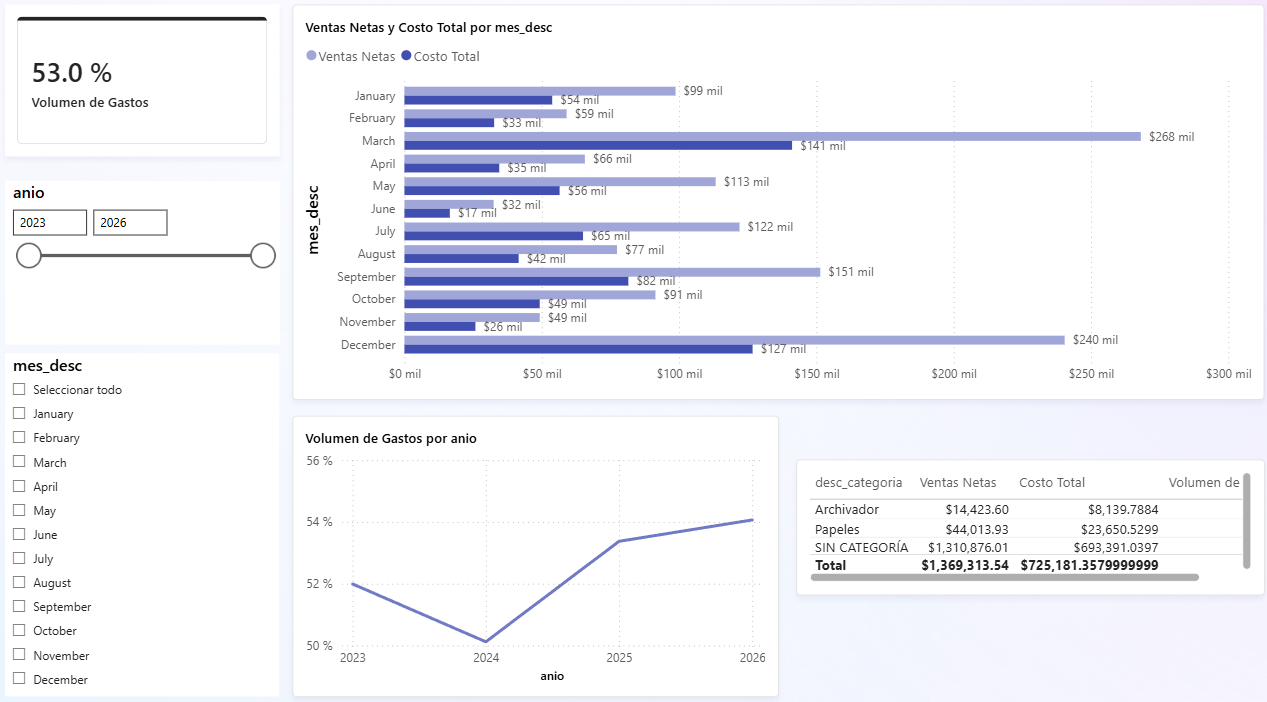

What the dashboard file says about the page in this screenshot:
{"tool":"powerbi","page":{"name":"KPI 4 - Volumen de Gastos","canvas":[1280,720],"ordinal":5},"visuals":[{"type":"cardVisual","fields":{"Data":["_Medidas.Volumen de Gastos"]},"box":[10,12.5,273.8,151.2],"z":0},{"type":"lineChart","fields":{"Category":["marts dim_fecha.Calendario.anio","marts dim_fecha.Calendario.trimestre","marts dim_fecha.Calendario.mes_desc","marts dim_fecha.Calendario.fecha"],"Y":["_Medidas.Volumen de Gastos"]},"box":[296.2,421.2,483.8,280],"z":1000},{"type":"tableEx","fields":{"Values":["marts dim_producto.desc_categoria","_Medidas.Ventas Netas","_Medidas.Costo Total","_Medidas.Volumen de Gastos"]},"box":[797.5,465,466.2,135],"z":2000},{"type":"clusteredBarChart","fields":{"Category":["marts dim_fecha.mes_desc"],"Y":["_Medidas.Ventas Netas","_Medidas.Costo Total"]},"box":[296.2,12.5,967.5,393.8],"z":3000},{"type":"slicer","fields":{"Values":["marts dim_fecha.anio"]},"box":[10,187.5,272.5,162.5],"z":4000},{"type":"slicer","fields":{"Values":["marts dim_fecha.mes_desc"]},"box":[10,360,272.5,341.2],"z":5000}]}

Visuals, with their boxes in screenshot pixels (x1, y1, x2, y2), scaled from the page's 1280x720 canvas onto the 1267x702 screenshot:
cardVisual - _Medidas.Volumen de Gastos: box=[10, 12, 281, 160]
lineChart - marts dim_fecha.Calendario.anio x marts dim_fecha.Calendario.trimestre: box=[293, 411, 772, 684]
tableEx - marts dim_producto.desc_categoria x _Medidas.Ventas Netas: box=[789, 453, 1251, 585]
clusteredBarChart - marts dim_fecha.mes_desc x _Medidas.Ventas Netas: box=[293, 12, 1251, 396]
slicer - marts dim_fecha.anio: box=[10, 183, 280, 341]
slicer - marts dim_fecha.mes_desc: box=[10, 351, 280, 684]
